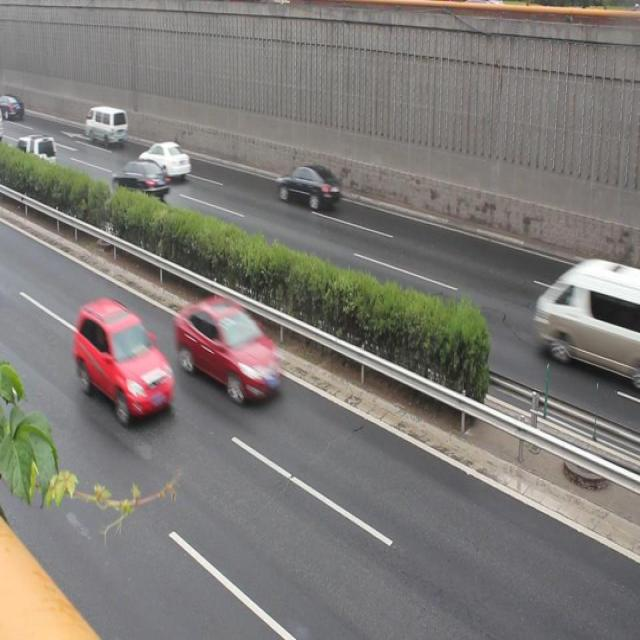car: (74, 296, 173, 421), (175, 295, 280, 401), (277, 161, 338, 211), (112, 158, 168, 200), (139, 137, 191, 179)
truck: (535, 257, 640, 376), (85, 106, 129, 146)
